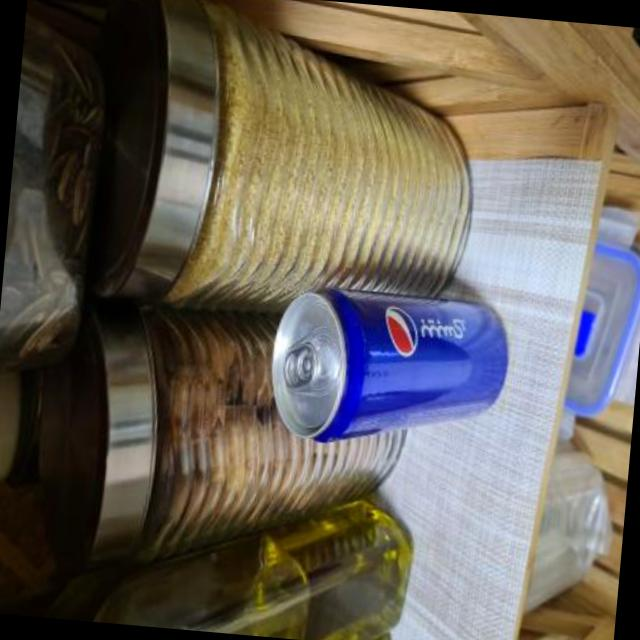metal: (271, 289, 507, 442)
